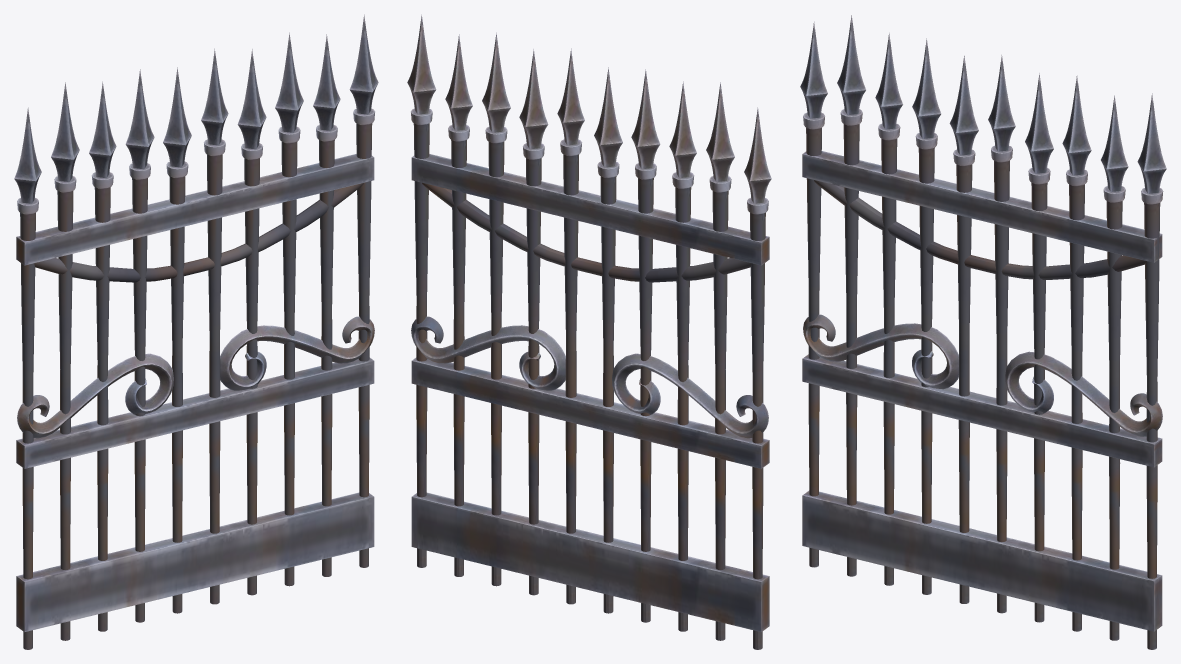
The model's file is fence-qm-propmetalfenceornament.glb.
3 views of the same model, side by side, from view 1: azimuth 30°, elevation 25°; view 2: azimuth 150°, elevation 25°; view 3: azimuth 330°, elevation 25° (orthographic).
Visible parts, largest first — view 1: Torus_013; view 2: Torus_013; view 3: Torus_013.
Boxes of the visible parts, x1,y1,x2,y2 form: Torus_013: [14, 14, 378, 649]; Torus_013: [407, 14, 771, 649]; Torus_013: [800, 15, 1166, 649].
Size of the model in its own units: 1.95 by 2.85 by 0.1561.
Materials: 1 (1 with a texture image).
